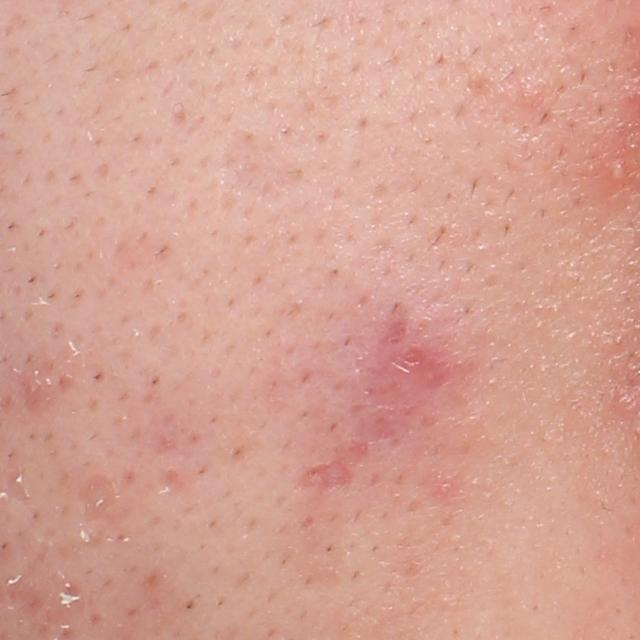atrophic_scar: (478, 84, 550, 135), (76, 472, 118, 527)
pustule: (598, 152, 630, 188)
